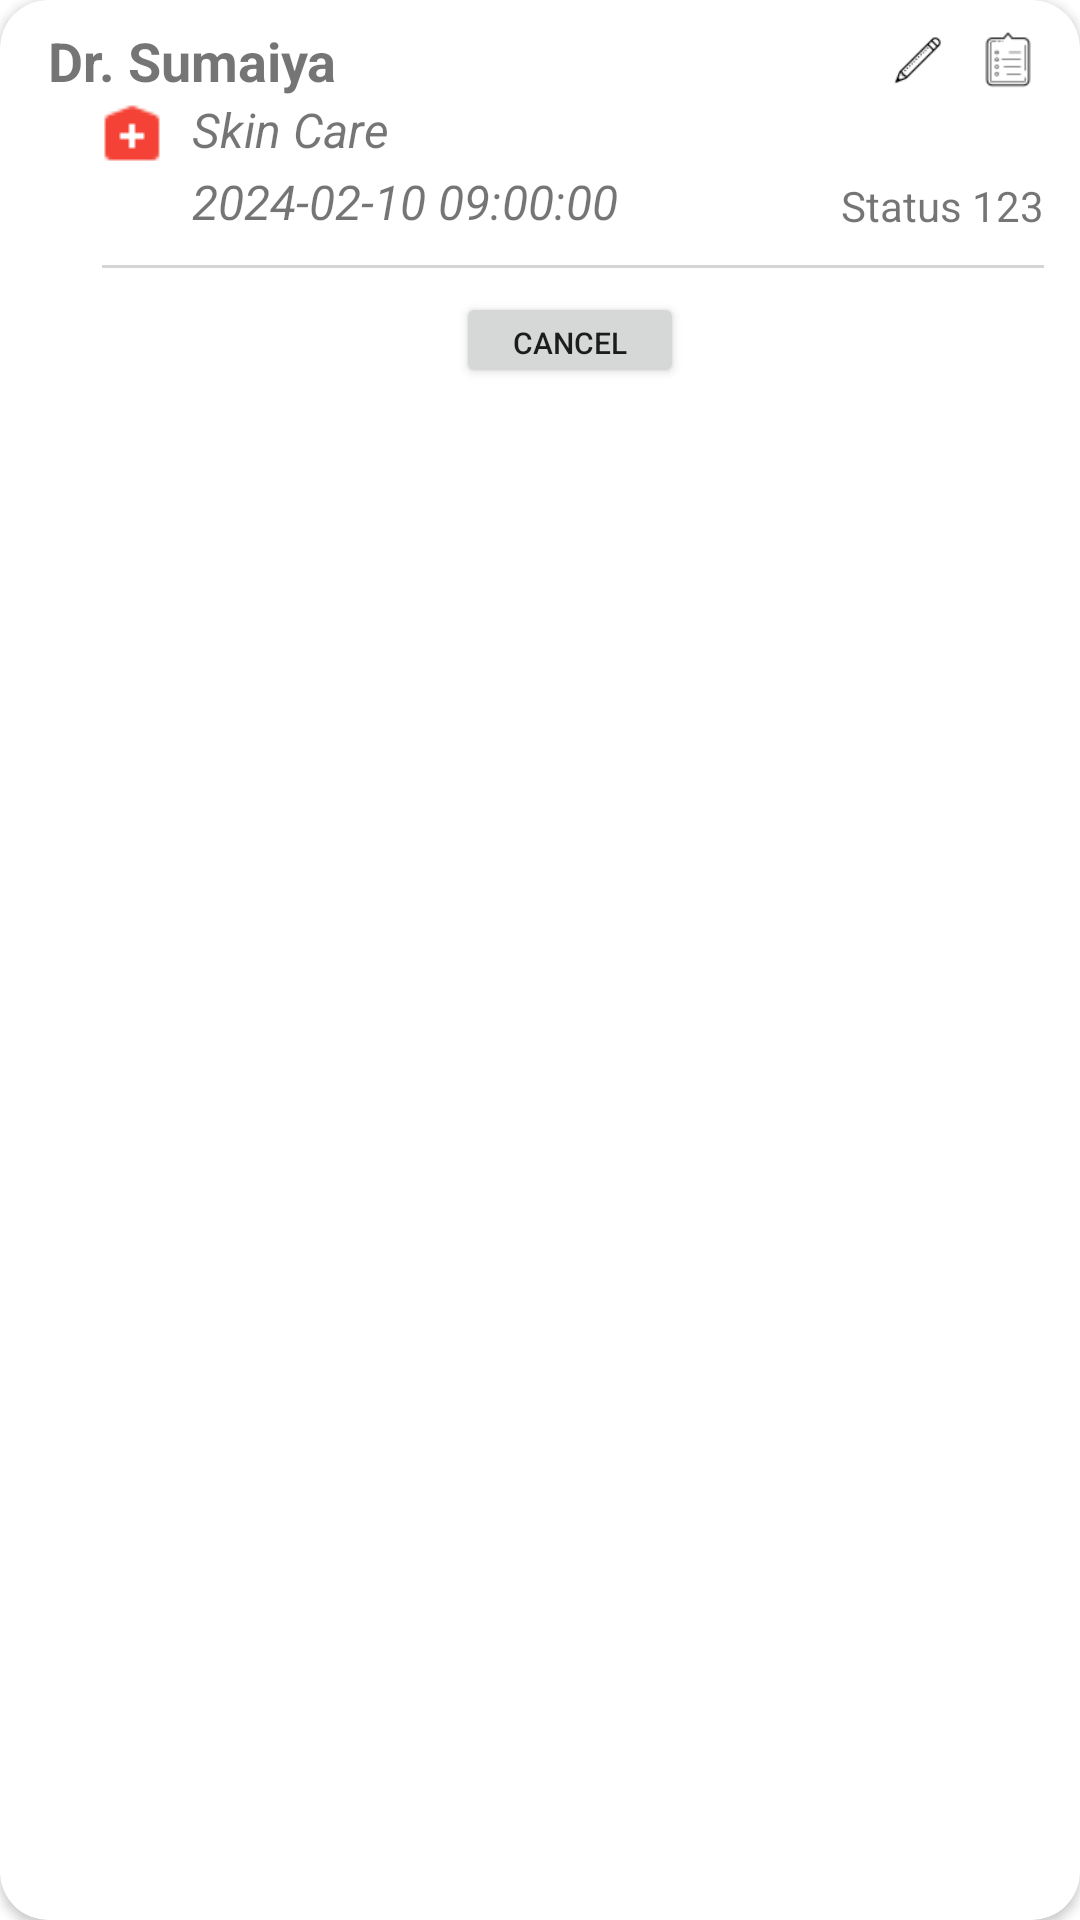

Screen size 1080px x 1920px. Icon name, then its center in pixels as [x,y]:
edit: [918,60]
medical: [132,133]
view details: [1008,59]
